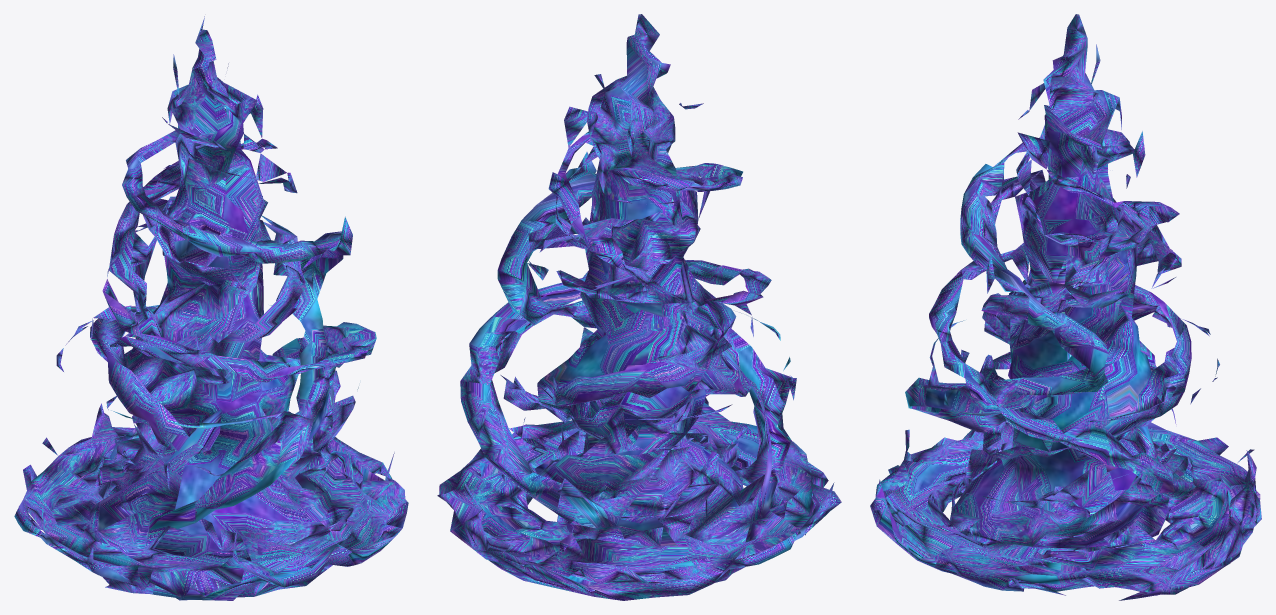
Rendered from flame.glb.
The picture shows the model from 3 angles, left to right: view 1: azimuth 30°, elevation 25°; view 2: azimuth 150°, elevation 25°; view 3: azimuth 270°, elevation 25°; orthographic projection.
Bounding box in the file's own units: 0.6211 × 0.9287 × 0.6284.
1 material, 1 textured.
